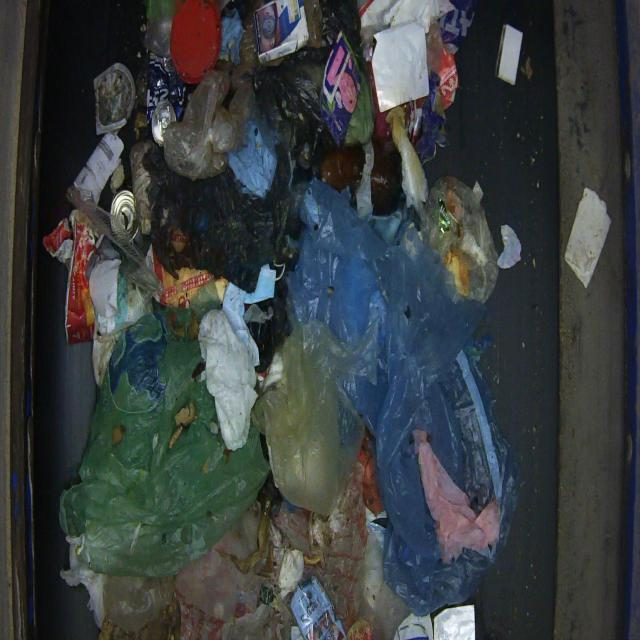other-trash: (44, 0, 519, 638)
